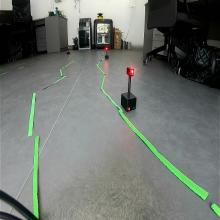red: (126, 66, 134, 76)
